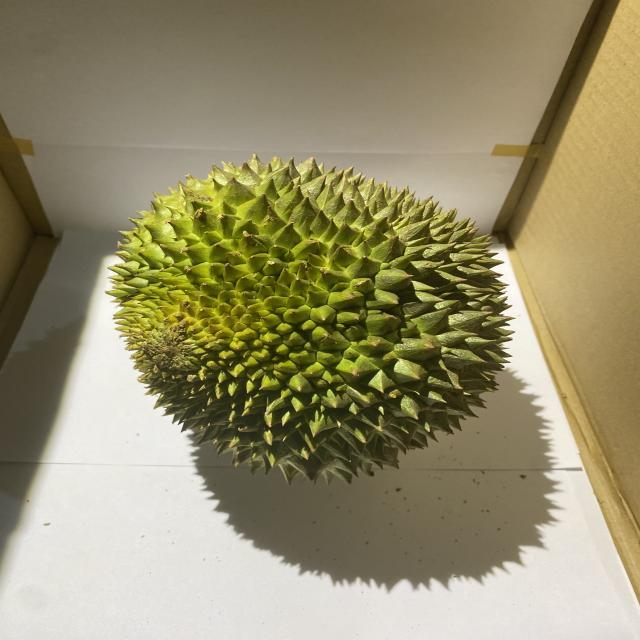immature: (101, 151, 517, 487)
